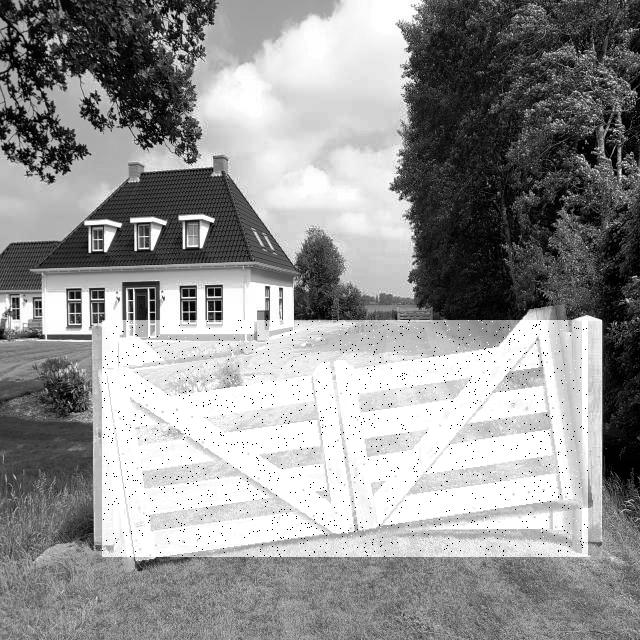fences: (102, 320, 588, 557)
